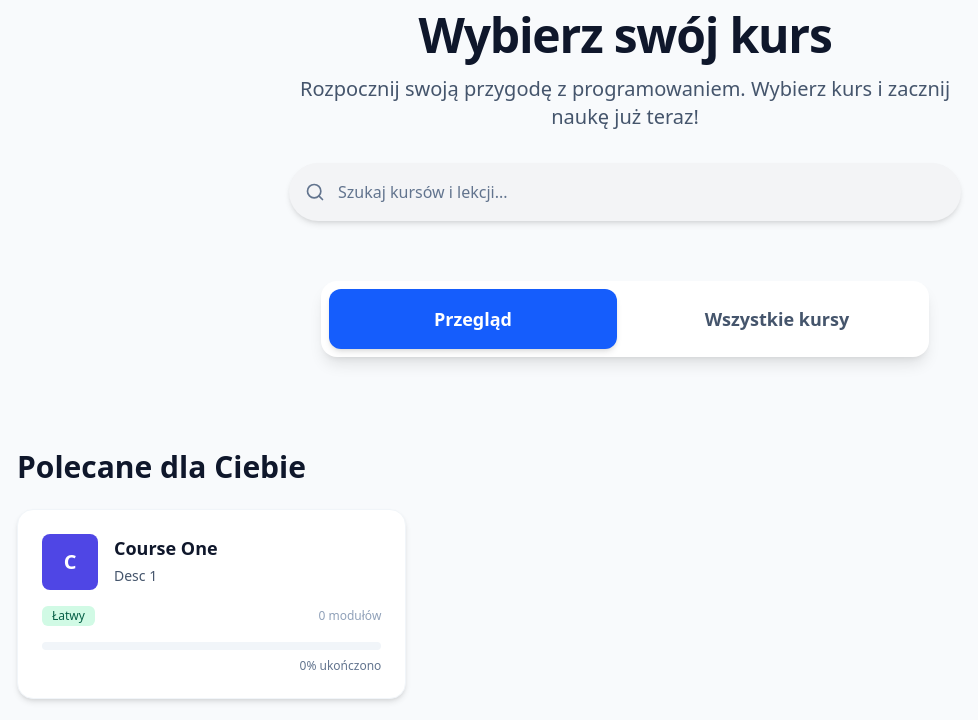
Scenario: CourseDashboard tabs › renders fixed tabs and switches to all courses view
Expected: the button "Przegląd" is shown, [329,289,617,349]
Click the button "Wszystkie kursy" at [777, 319], box [633,289,921,349]
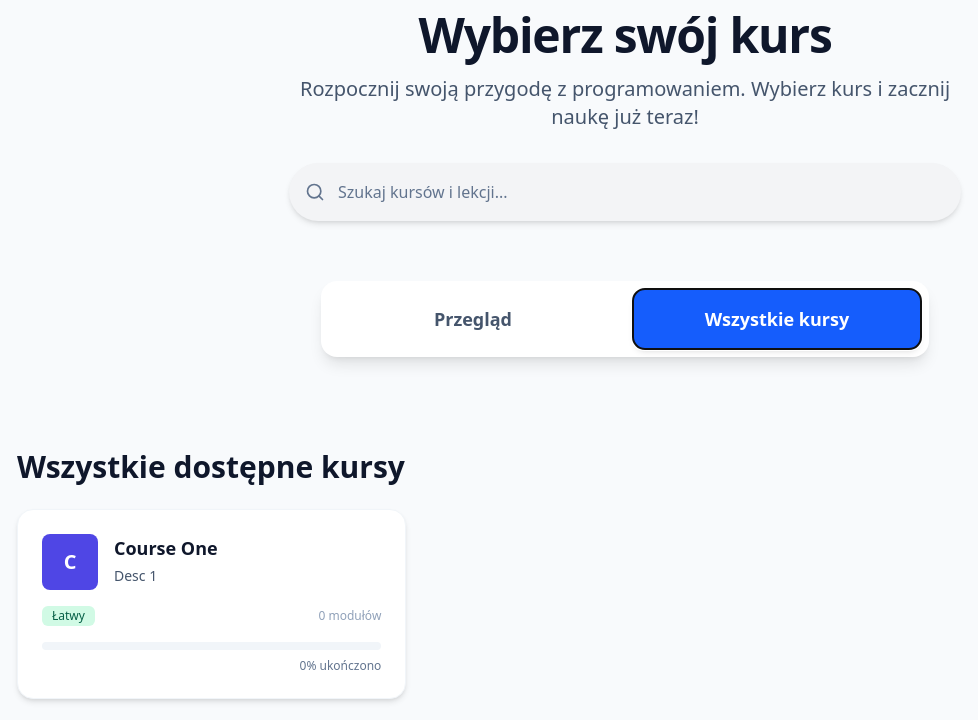
Result: the heading "Wszystkie dostępne kursy" is shown at [17,446,405,487]
